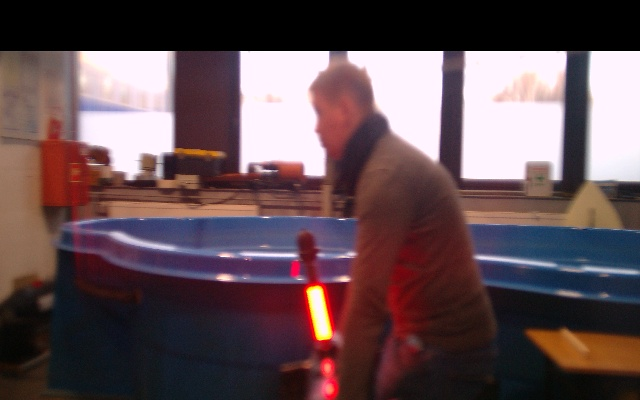red: (305, 285, 335, 342)
